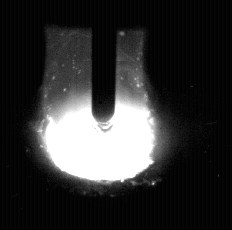arame: (93, 0, 116, 132)
poca: (42, 0, 156, 230)
